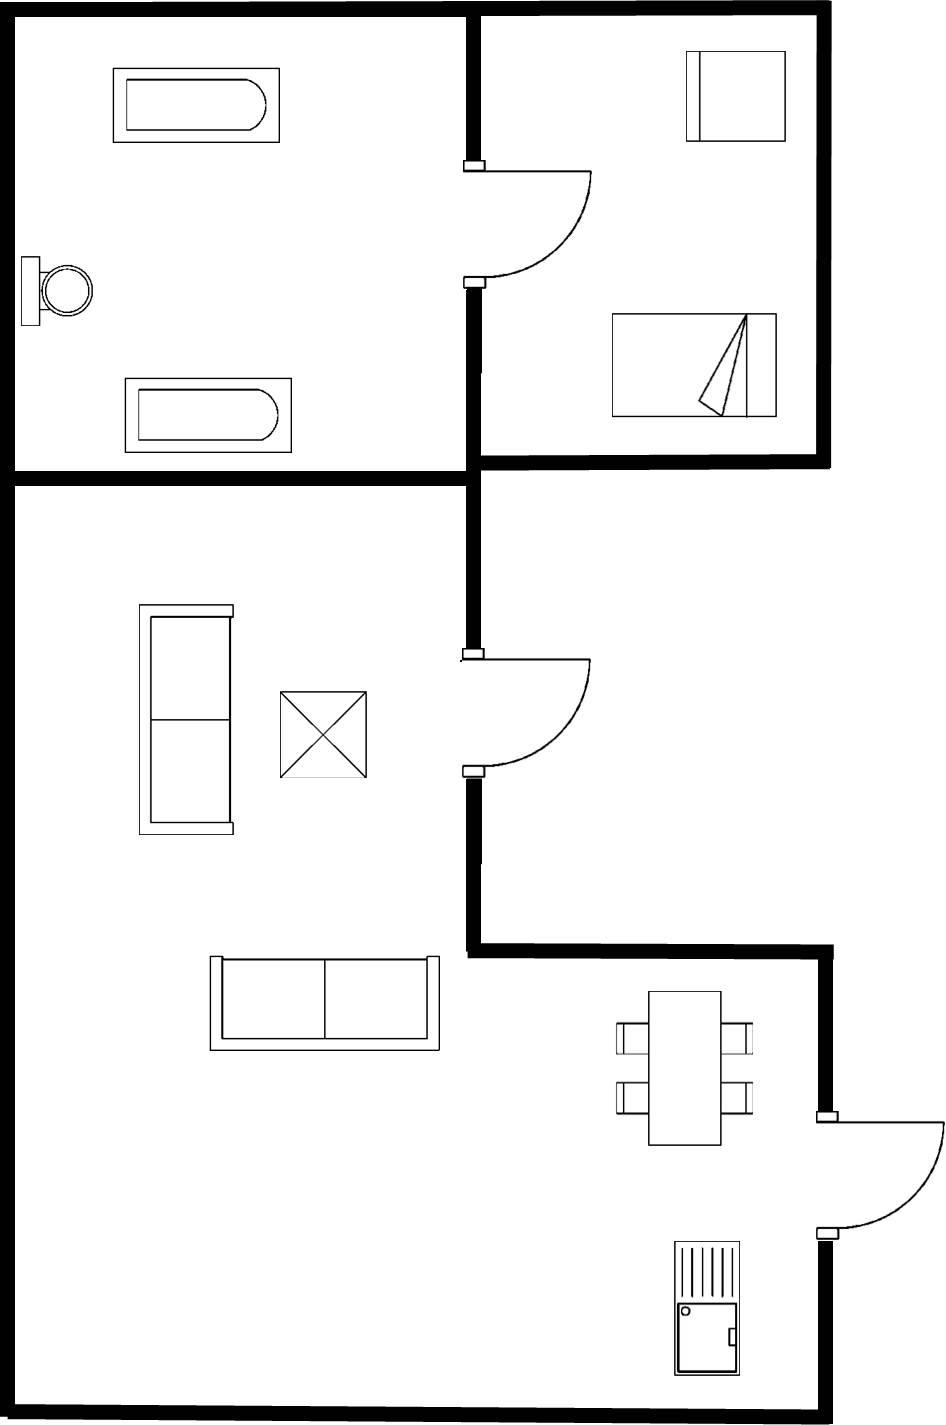bed: (603, 304, 782, 426)
dining_table: (605, 980, 765, 1158)
sink: (664, 1232, 748, 1384)
sofa: (126, 597, 240, 843), (200, 948, 446, 1062)
toilet: (16, 250, 101, 329)
tub: (101, 59, 286, 150), (115, 370, 301, 459)
